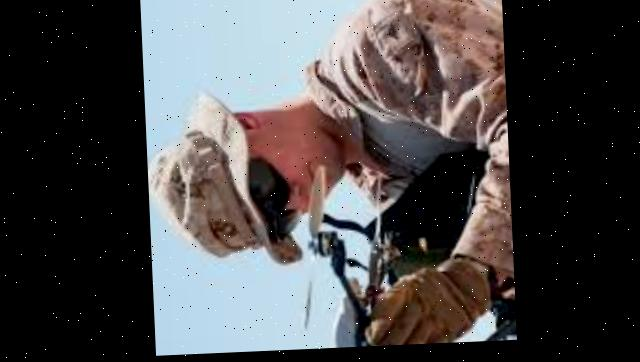drone: (292, 164, 431, 352)
